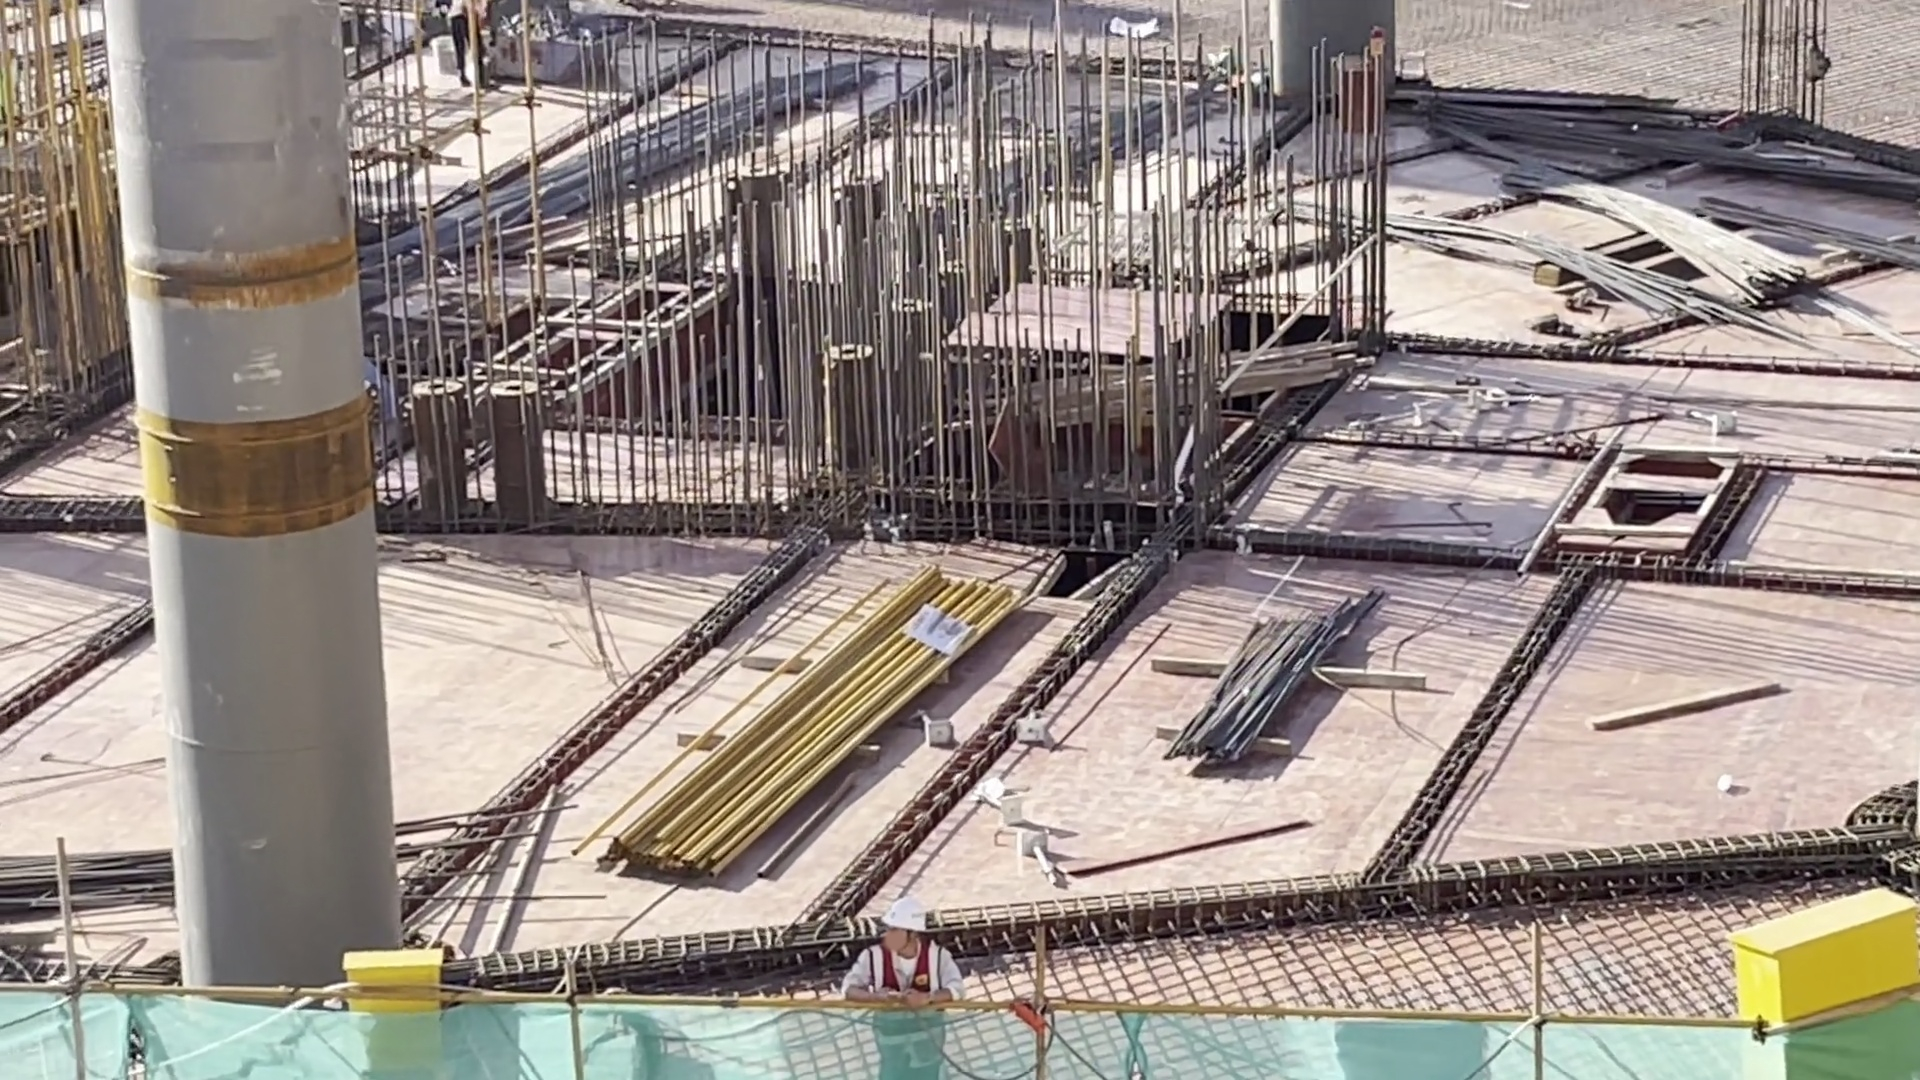helmet: (871, 897, 933, 941)
person: (845, 886, 972, 1080)
vest: (867, 939, 955, 1049)
